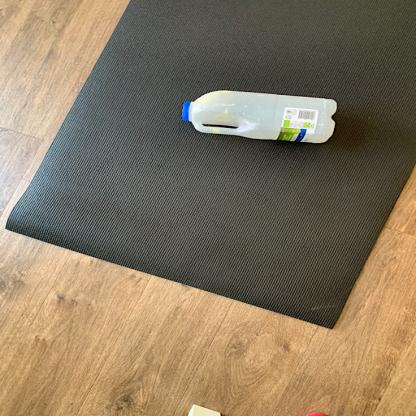trash: (178, 88, 344, 146)
